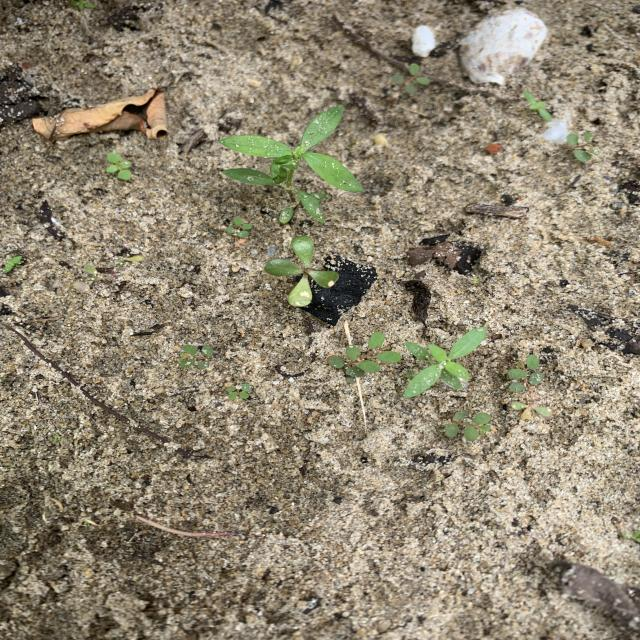weed: (220, 107, 363, 222), (405, 328, 486, 396), (265, 236, 337, 306), (327, 331, 400, 379), (442, 411, 491, 439), (507, 354, 542, 391), (392, 63, 429, 93), (565, 132, 596, 160), (179, 344, 212, 367), (524, 91, 551, 119), (511, 401, 551, 419), (107, 152, 131, 179), (226, 218, 251, 237), (226, 383, 251, 399), (84, 265, 102, 280), (4, 257, 21, 272), (68, 1, 95, 9), (280, 208, 292, 223)
